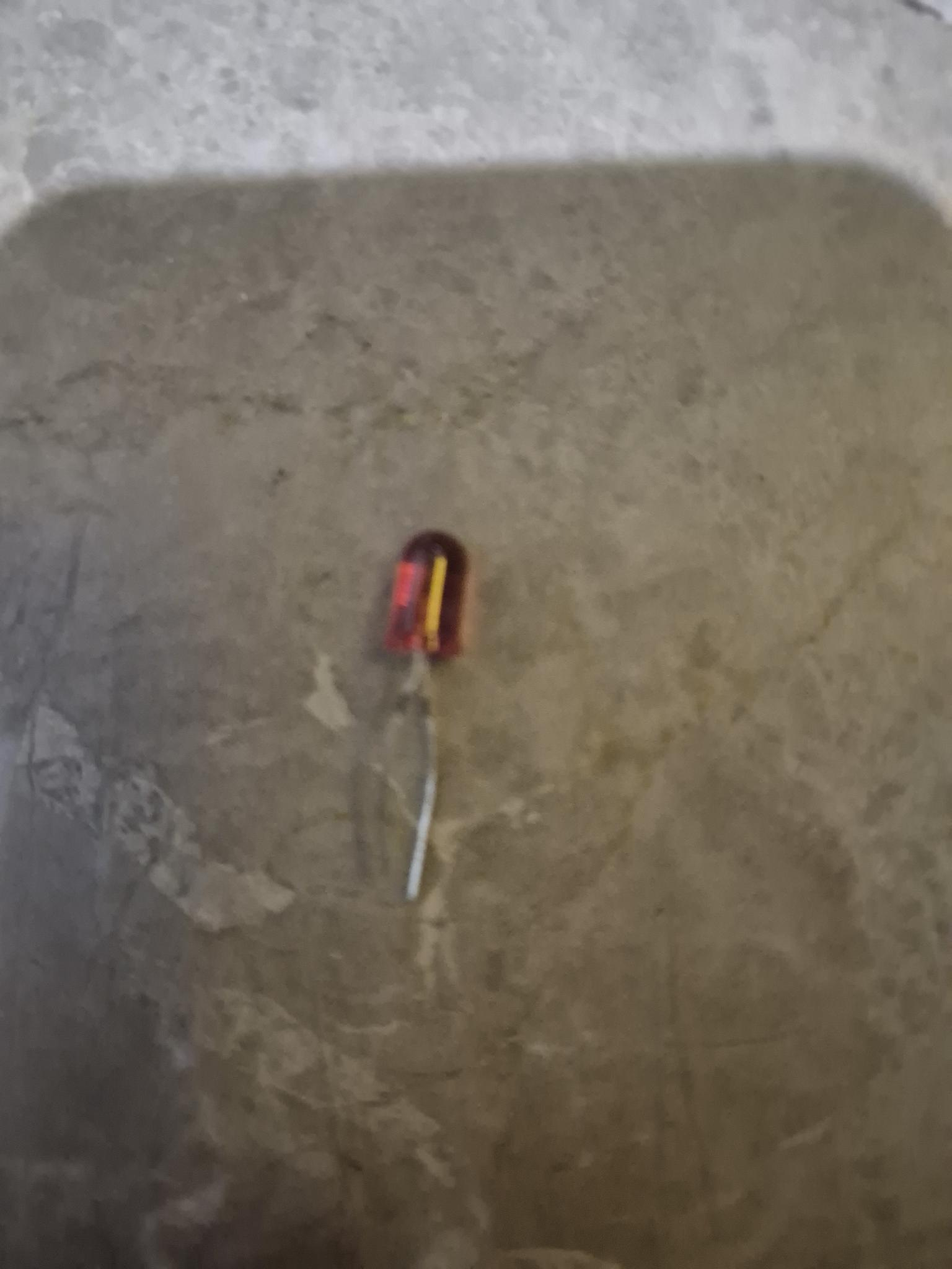led-diode: (385, 530, 471, 901)
